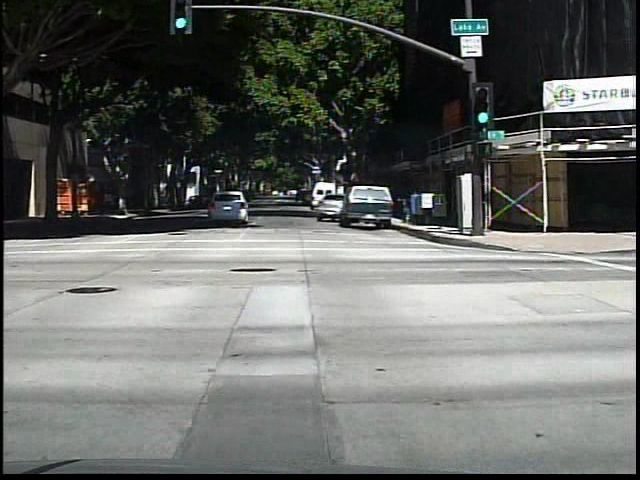person: (98, 184, 114, 219)
